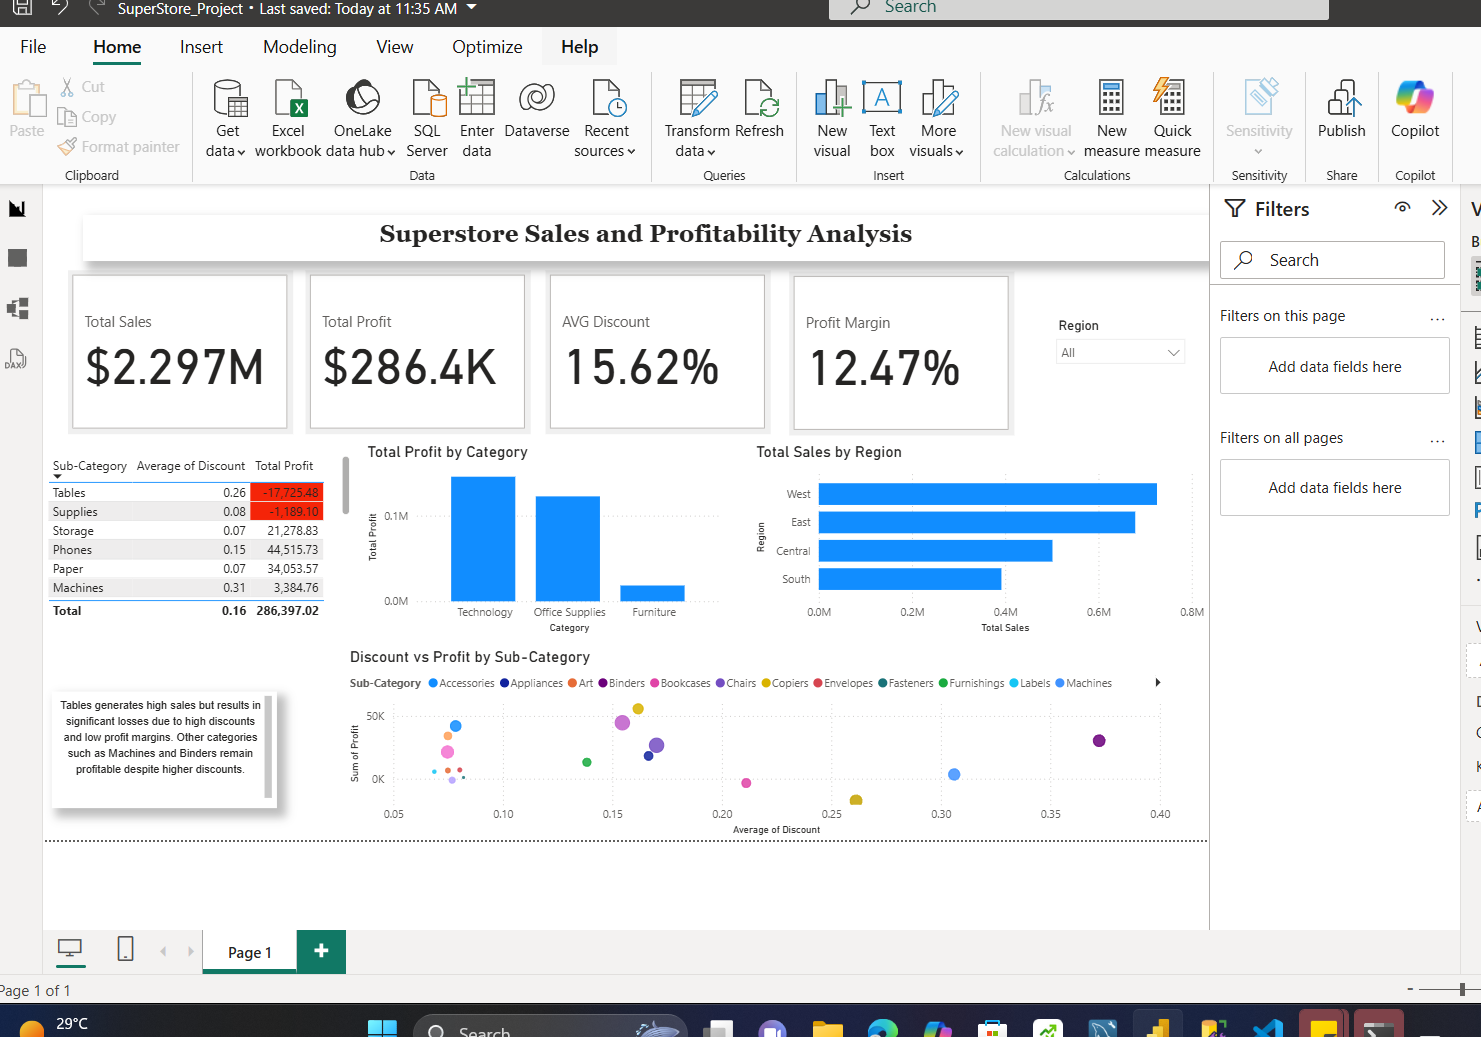

The page's visual inventory and layout, read from the dashboard file:
{"tool":"powerbi","page":{"name":"Page 1","canvas":[1280,720],"ordinal":0},"visuals":[{"type":"cardVisual","fields":{"Data":["Superstore_cleaned.Total Sales"]},"box":[27.4,94.7,247,179.8],"z":0},{"type":"cardVisual","fields":{"Data":["Superstore_cleaned.Total Profit"]},"box":[288.2,94.7,247,179.8],"z":1000},{"type":"cardVisual","fields":{"Data":["Superstore_cleaned.AVG Discount"]},"box":[551.6,94.7,247,179.8],"z":2000},{"type":"cardVisual","fields":{"Data":["Superstore_cleaned.Profit Margin"]},"box":[819.2,96.1,247,179.8],"z":3000},{"type":"clusteredBarChart","fields":{"Y":["Superstore_cleaned.Total Sales"],"Category":["Superstore_cleaned.Region"]},"box":[778,284,502.2,214.1],"z":4000},{"type":"columnChart","fields":{"Y":["Superstore_cleaned.Total Profit"],"Category":["Superstore_cleaned.Category"]},"box":[351.3,284,399.3,214.1],"z":5000},{"type":"scatterChart","title":"Discount vs Profit by Sub-Category","fields":{"X":["Avg(Superstore_cleaned.Discount)"],"Y":["Sum(Superstore_cleaned.Profit)"],"Size":["Sum(Superstore_cleaned.Sales)"],"Series":["Superstore_cleaned.Sub-Category"]},"box":[332.1,509.1,911.2,211.3],"z":6000},{"type":"tableEx","fields":{"Values":["Superstore_cleaned.Sub-Category","Avg(Superstore_cleaned.Discount)","Superstore_cleaned.Total Profit"]},"box":[0,293.7,341.7,189.4],"z":7000},{"type":"textbox","box":[9.6,557.1,247,127.6],"z":8000},{"type":"textbox","box":[43.9,34.3,1236.4,50.8],"z":8002},{"type":"slicer","fields":{"Values":["Superstore_cleaned.Region"]},"box":[1101.9,141.3,161.9,87.8],"z":8003}]}

Visuals, with their boxes on the page's 1280x720 design canvas (x1, y1, x2, y2). These are canvas units, not pixel positions in the 1481x1037 screenshot, which may show the page scaled, cropped or inside an application window:
cardVisual - Superstore_cleaned.Total Sales: [27, 95, 274, 274]
cardVisual - Superstore_cleaned.Total Profit: [288, 95, 535, 274]
cardVisual - Superstore_cleaned.AVG Discount: [552, 95, 799, 274]
cardVisual - Superstore_cleaned.Profit Margin: [819, 96, 1066, 276]
clusteredBarChart - Superstore_cleaned.Total Sales x Superstore_cleaned.Region: [778, 284, 1280, 498]
columnChart - Superstore_cleaned.Total Profit x Superstore_cleaned.Category: [351, 284, 751, 498]
"Discount vs Profit by Sub-Category" scatterChart: [332, 509, 1243, 720]
tableEx - Superstore_cleaned.Sub-Category x Avg(Superstore_cleaned.Discount): [0, 294, 342, 483]
textbox: [10, 557, 257, 685]
textbox: [44, 34, 1280, 85]
slicer - Superstore_cleaned.Region: [1102, 141, 1264, 229]
